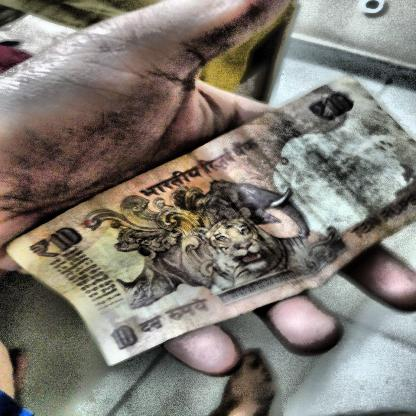Rs10: (19, 220, 90, 266), (301, 87, 363, 126), (102, 318, 145, 356)
